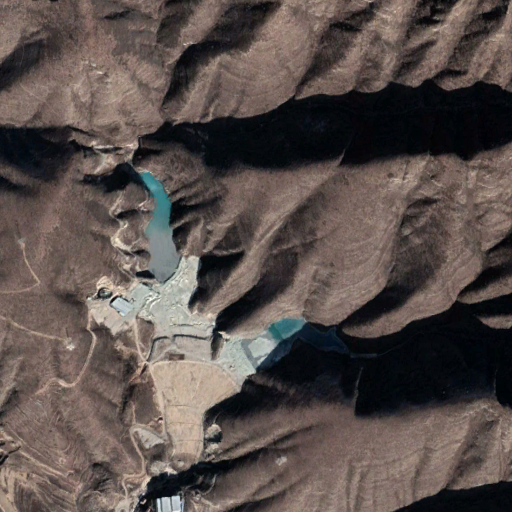tp: (133, 166, 349, 475)
